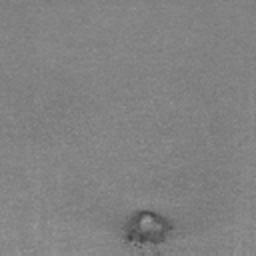Iron sheet ash: (121, 210, 176, 249)
